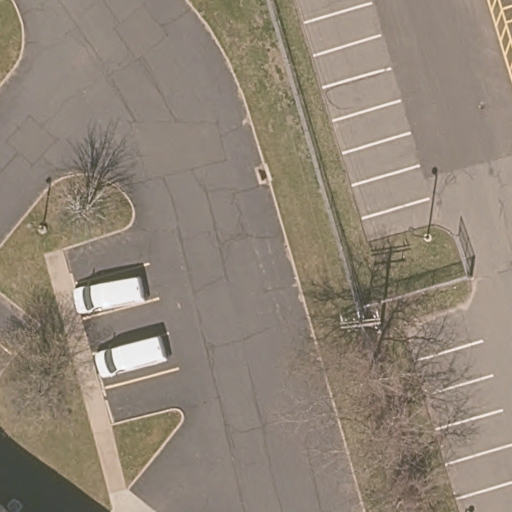DT: (338, 310, 382, 330)
